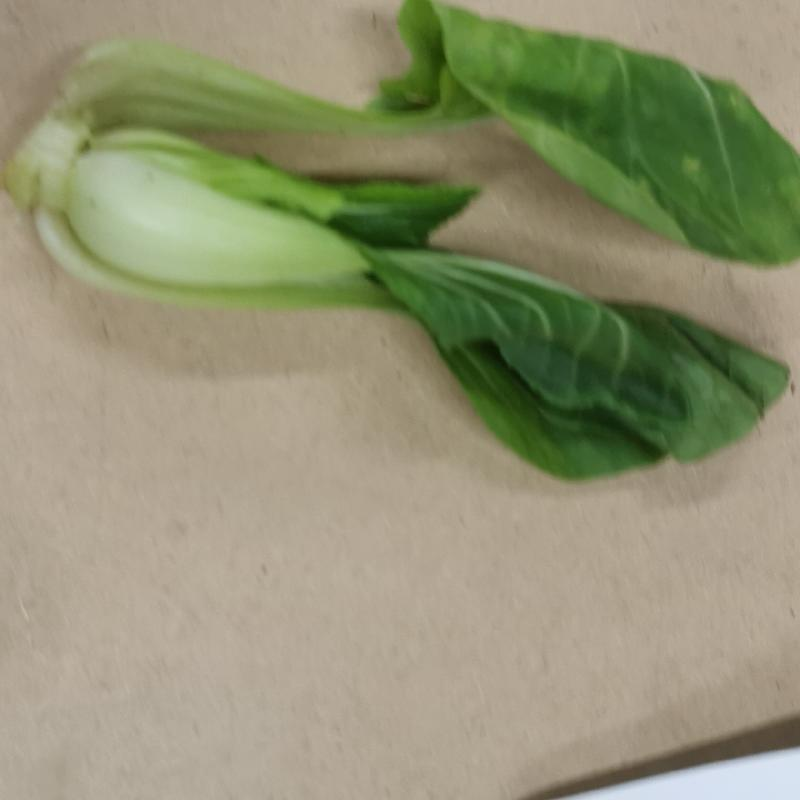green vegatable: (14, 6, 800, 484)
